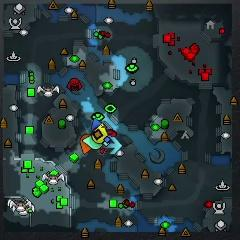p1: (91, 117, 103, 130)
p2: (82, 135, 104, 149)
p4: (91, 124, 109, 142)
p5: (80, 134, 94, 154)
x3: (104, 136, 121, 153)
